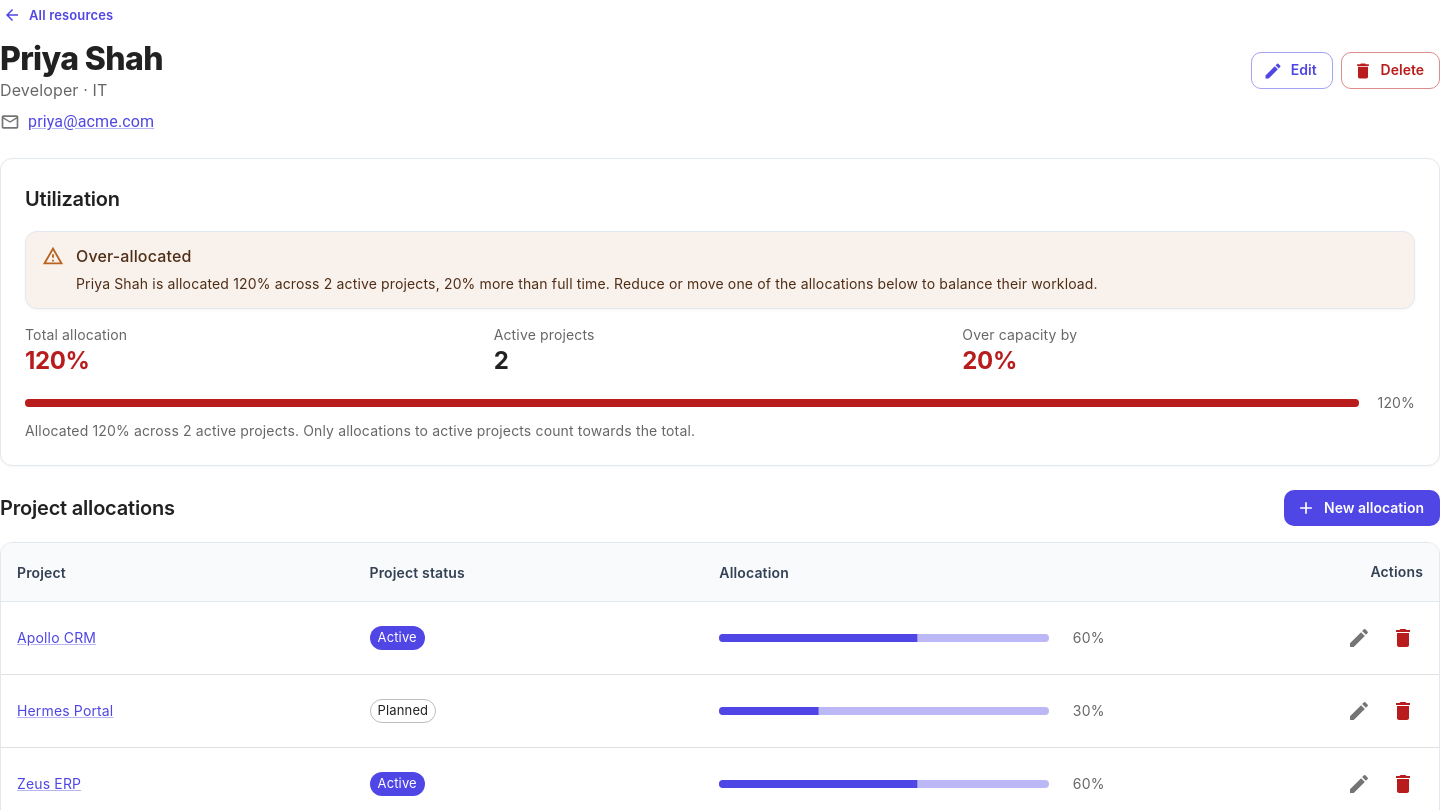
Test: ResourceDetailPage allocations after a person edit › reloads the allocations, so their buttons and delete confirmation use the new name
Expected: the heading "Priya Shah" is shown, [0,39,163,78]
Click the button "Edit" at (1292, 71), box [1251,52,1333,89]
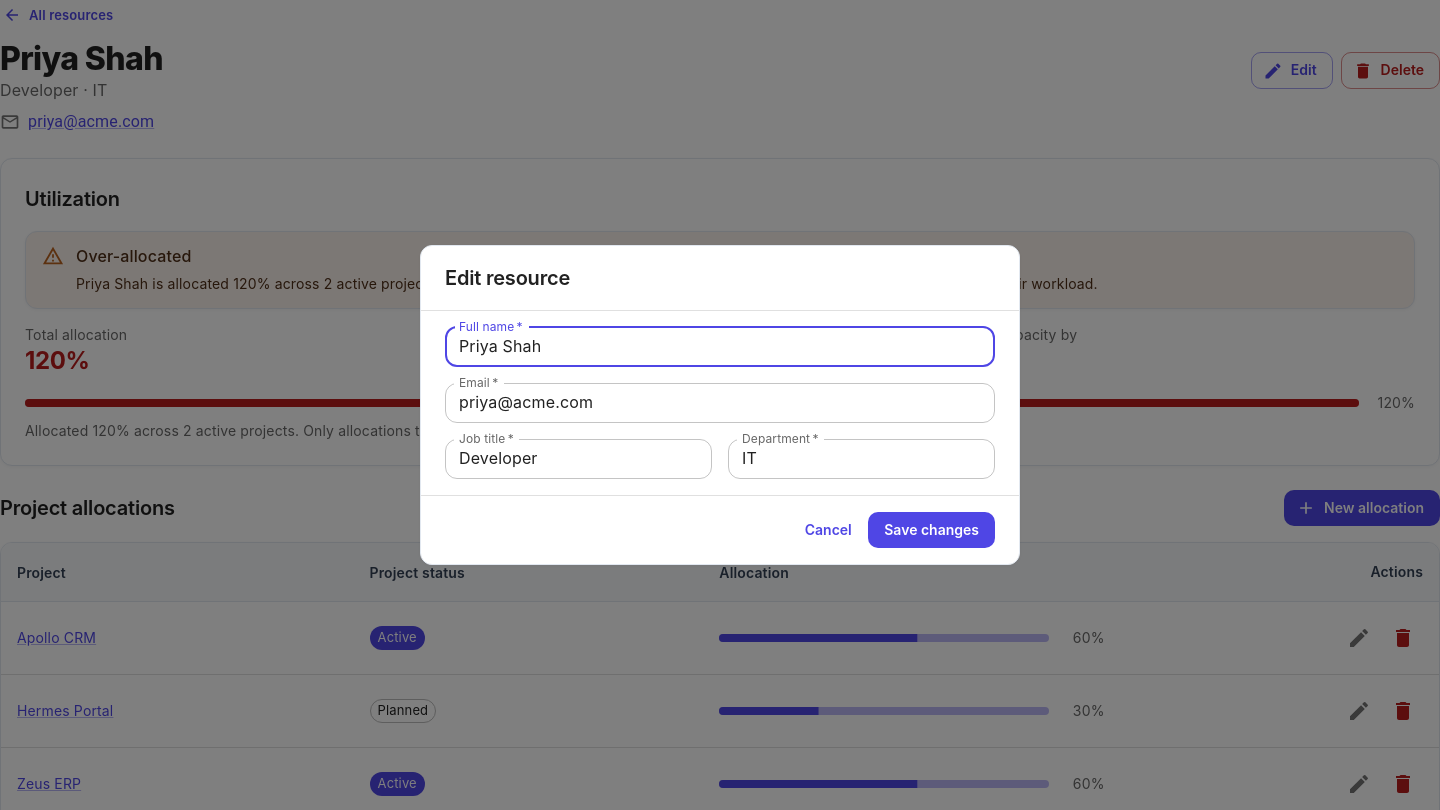
Replace the text in the field labelled "Full name *" with "Priya Patel" at (720, 347), box [445,327,995,367]
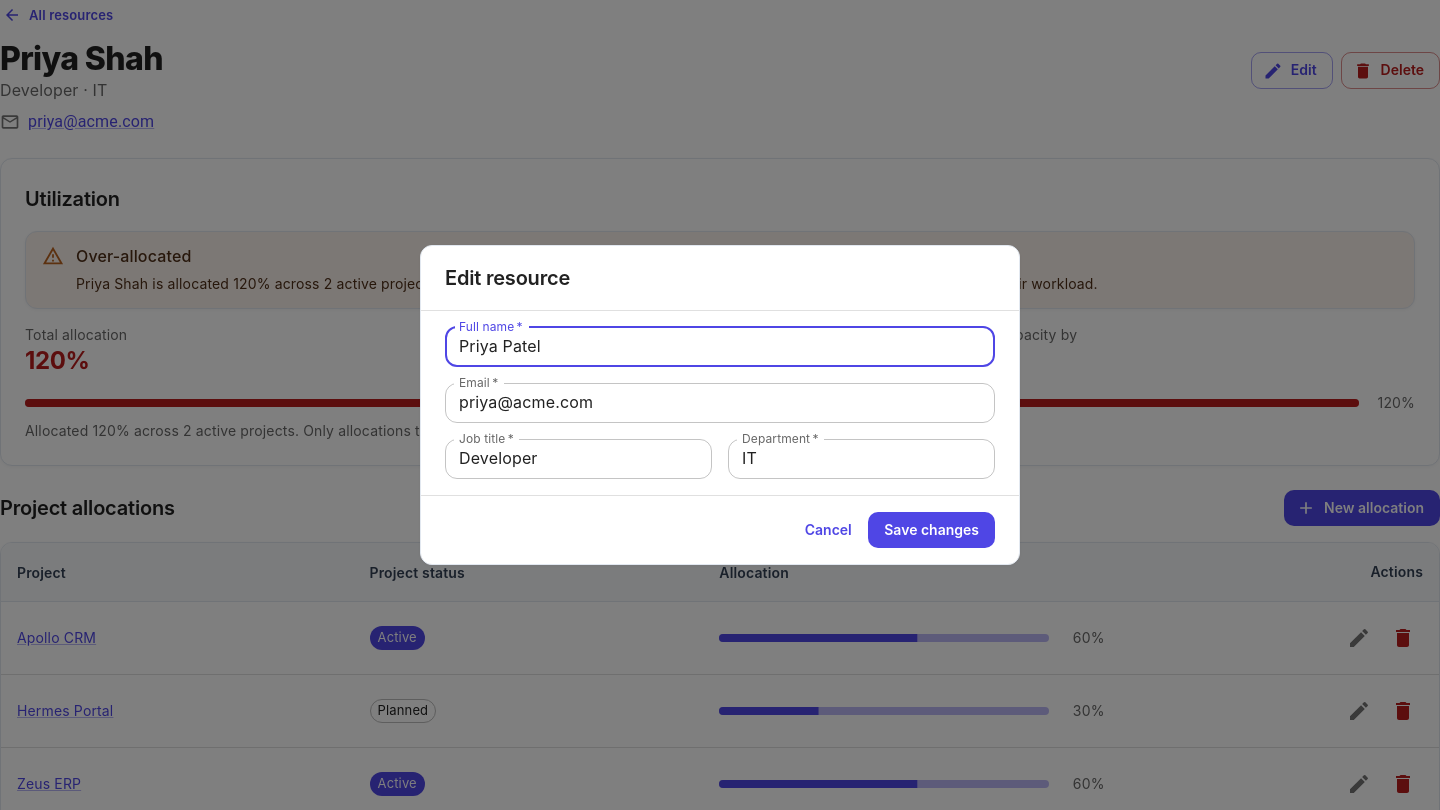
Click the button "Save changes" at (932, 530), box [868,512,995,548]
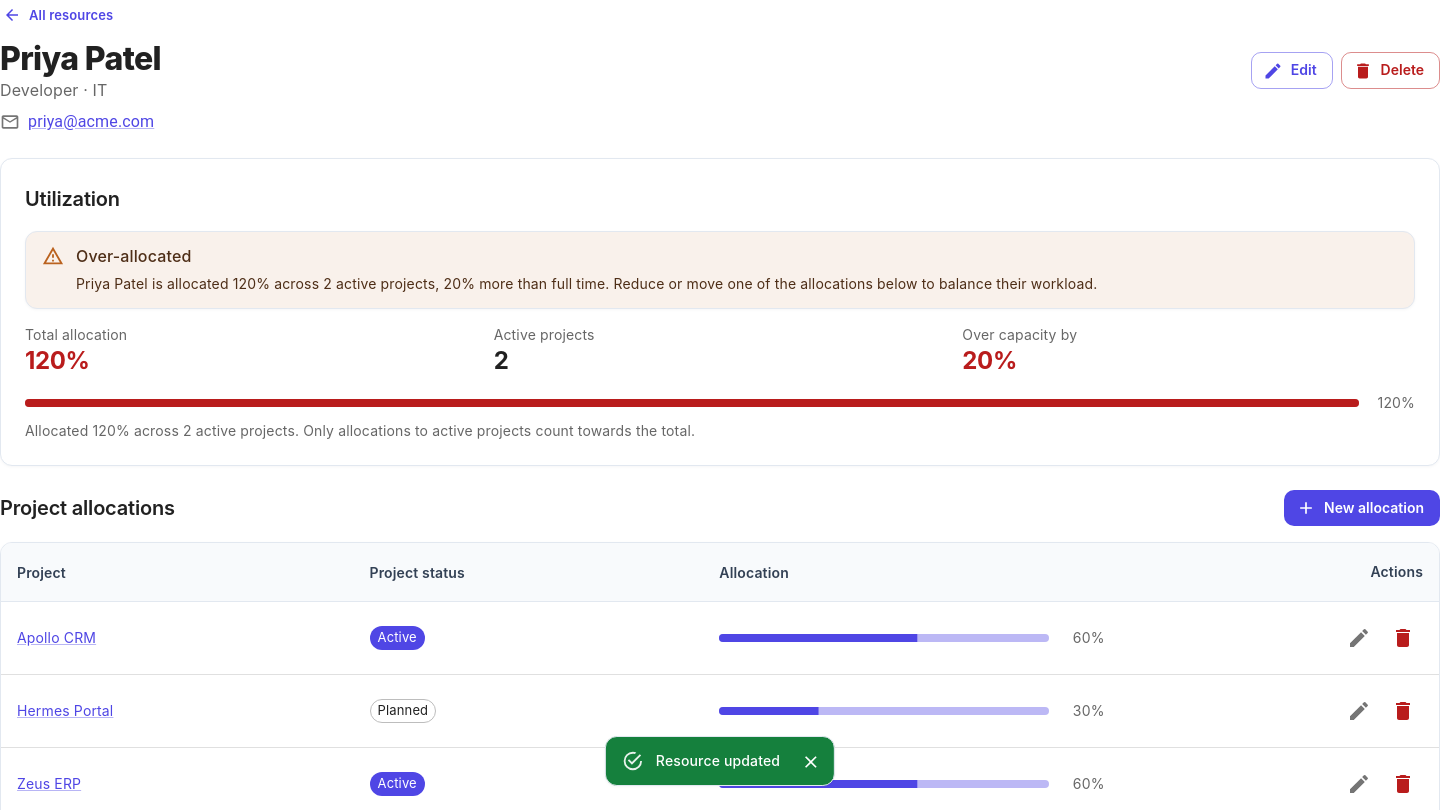
Expected: the text "Resource updated" is shown, [656,752,780,769]
Expected: the heading "Priya Patel" is shown, [0,39,161,78]
Click the button named "Delete allocation for Priya Patel on Apollo CRM" at (1403, 638), box [1383,618,1423,658]
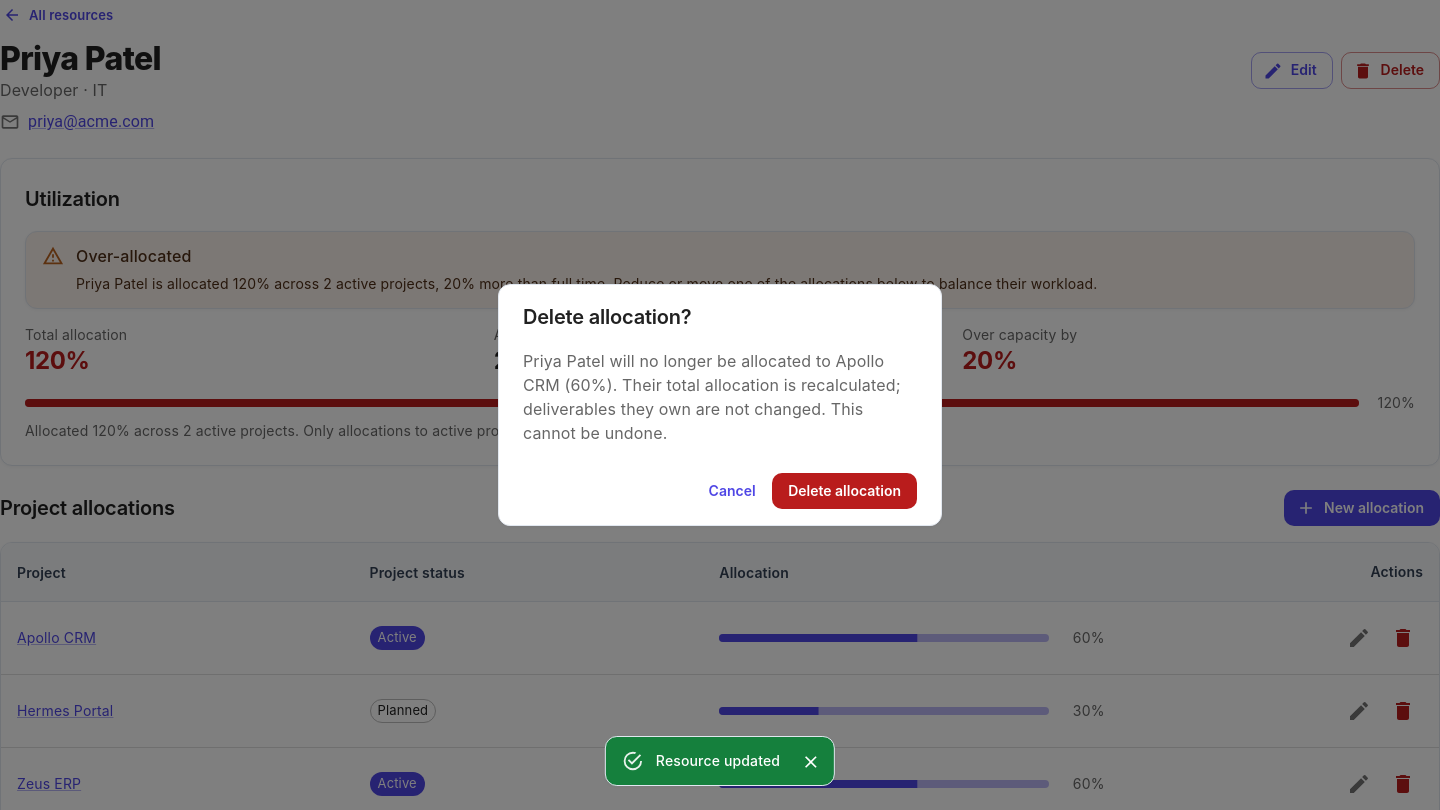
Expected: the dialog "Delete allocation?" shows "Priya Patel will no longer be allocated to Apollo CRM (60%).", [523,351,901,443]
